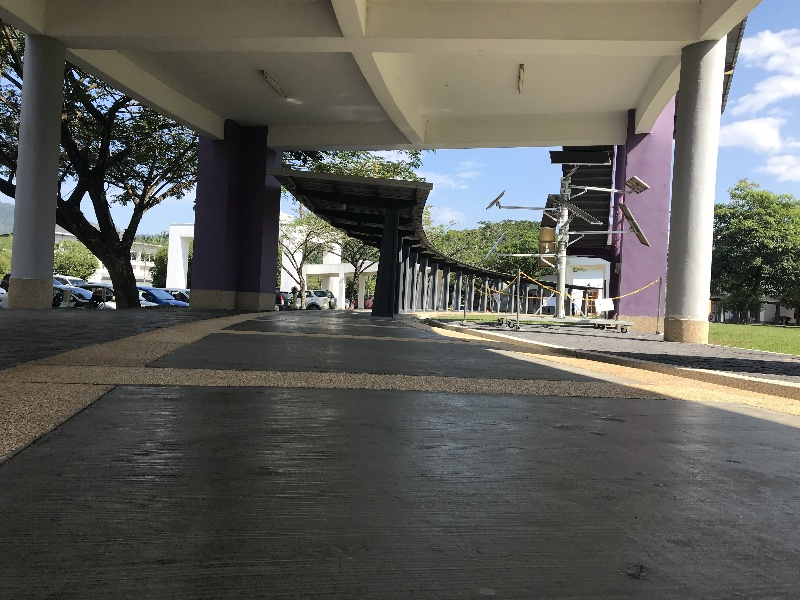Block D Pillar 4: (5, 6, 800, 495)
pillar: (177, 117, 293, 322), (13, 32, 62, 314), (675, 32, 718, 352), (618, 87, 662, 335), (372, 195, 399, 325)
